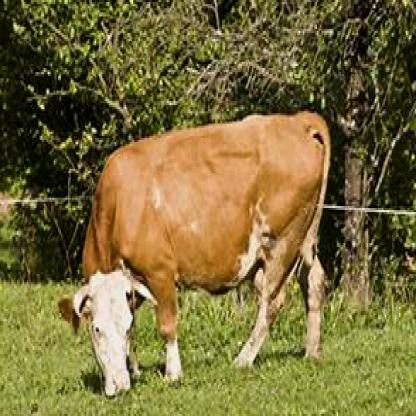cow: (74, 111, 334, 400)
